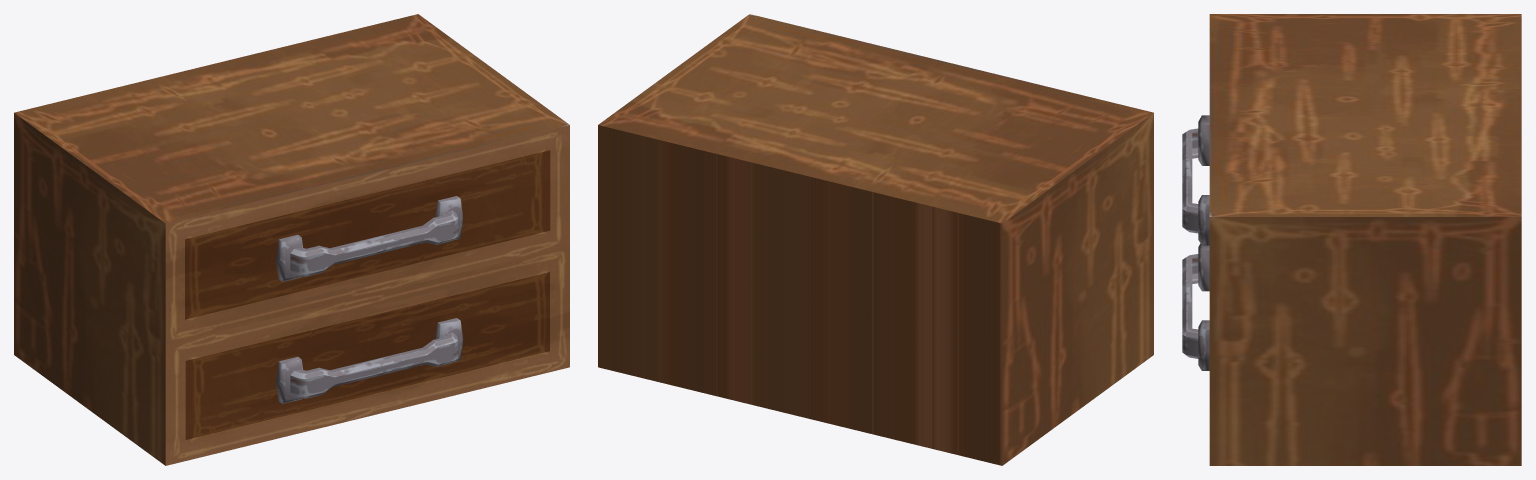
The model's file is workbench_drawers.gltf.
3 views of the same model, side by side, from view 1: azimuth 30°, elevation 25°; view 2: azimuth 150°, elevation 25°; view 3: azimuth 270°, elevation 25° (orthographic). The views are drawn at different scales.
Parts seen in each view (by area): view 1: Workbench_Drawers; view 2: Workbench_Drawers; view 3: Workbench_Drawers.
Boxes of the visible parts, x1,y1,x2,y2 form: Workbench_Drawers: (14, 14, 569, 465); Workbench_Drawers: (598, 14, 1153, 465); Workbench_Drawers: (1182, 14, 1521, 465).
Size of the model in its own units: 0.4231 by 0.2423 by 0.299.
Materials: 2 (2 with a texture image).
